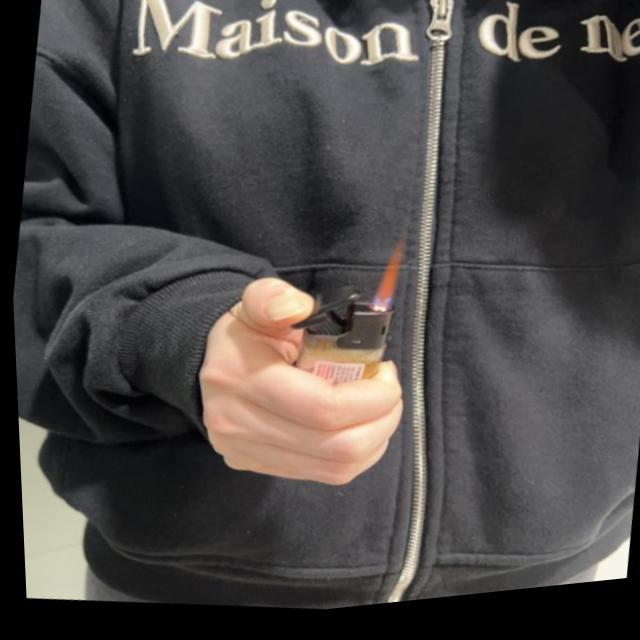Fire: (369, 241, 409, 315)
